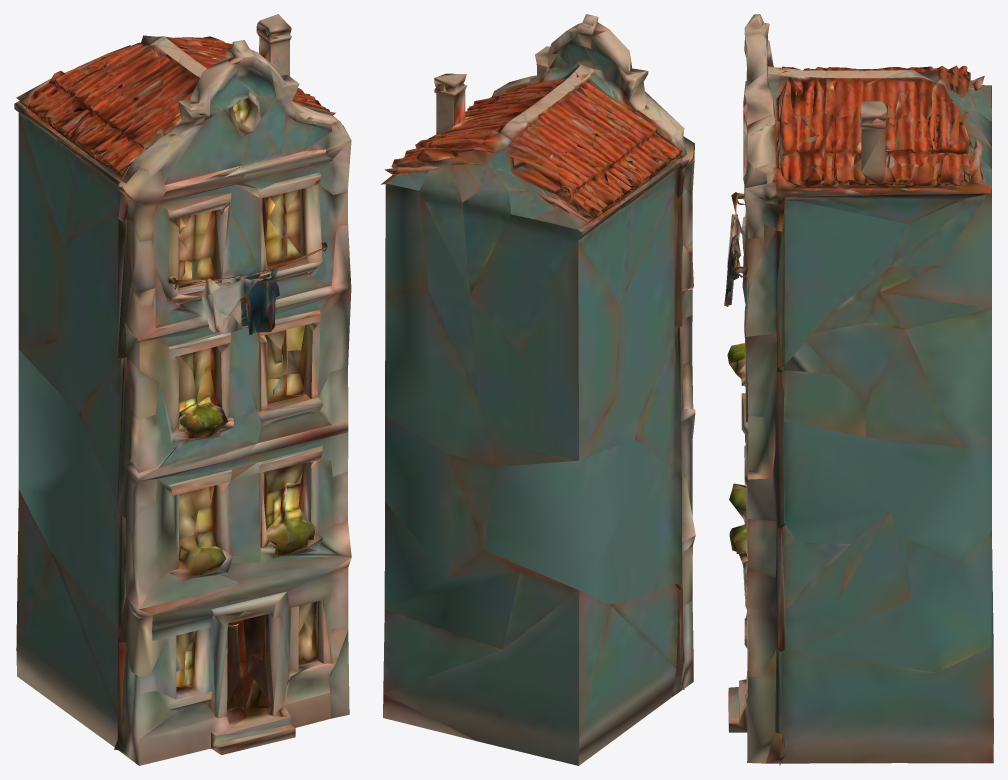
Rendered from getkong-haus13.glb.
3 renders of one model, left to right at view 1: azimuth 30°, elevation 25°; view 2: azimuth 150°, elevation 25°; view 3: azimuth 270°, elevation 25°, orthographic. The views are drawn at different scales.
Parts seen in each view (by area): view 1: output_unwrapped; view 2: output_unwrapped; view 3: output_unwrapped.
Part boxes in pixels (x1=…): output_unwrapped: x1=14, y1=14, x2=351, y2=765; output_unwrapped: x1=381, y1=14, x2=695, y2=765; output_unwrapped: x1=724, y1=14, x2=993, y2=765.
Size of the model in its own units: 0.6563 by 1.9 by 0.6663.
Materials: 1 (1 with a texture image).
